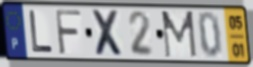0: (197, 11, 223, 61)
2: (127, 9, 155, 59)
F: (53, 8, 83, 58)
L: (28, 9, 55, 55)
M: (160, 10, 199, 60)
X: (89, 8, 126, 59)
